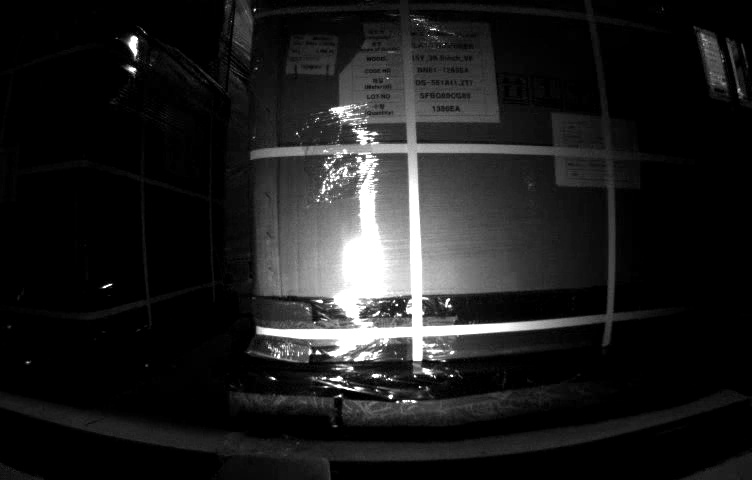True Barcode: (287, 34, 337, 75)
